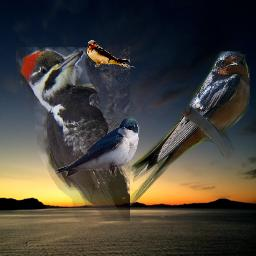Swallow: (128, 51, 250, 206), (55, 117, 140, 176), (86, 40, 135, 70)
Woodpecker: (16, 47, 130, 221)
